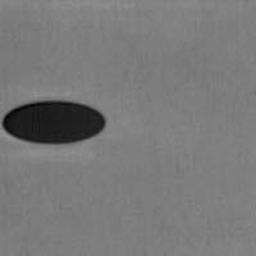Punching: (2, 101, 105, 144)
